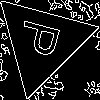P: (17, 17, 70, 62)
